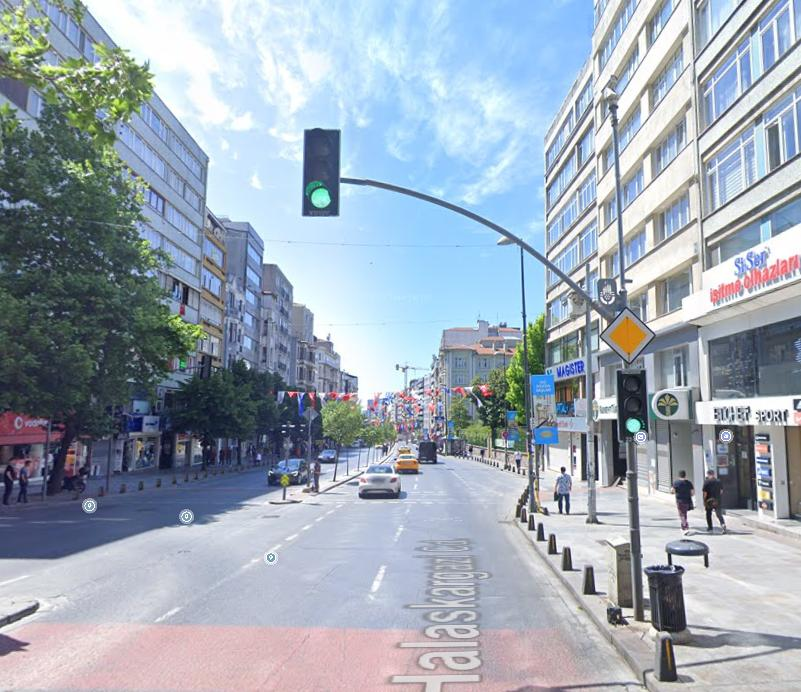greenlight: (303, 128, 339, 214), (620, 370, 645, 440)
